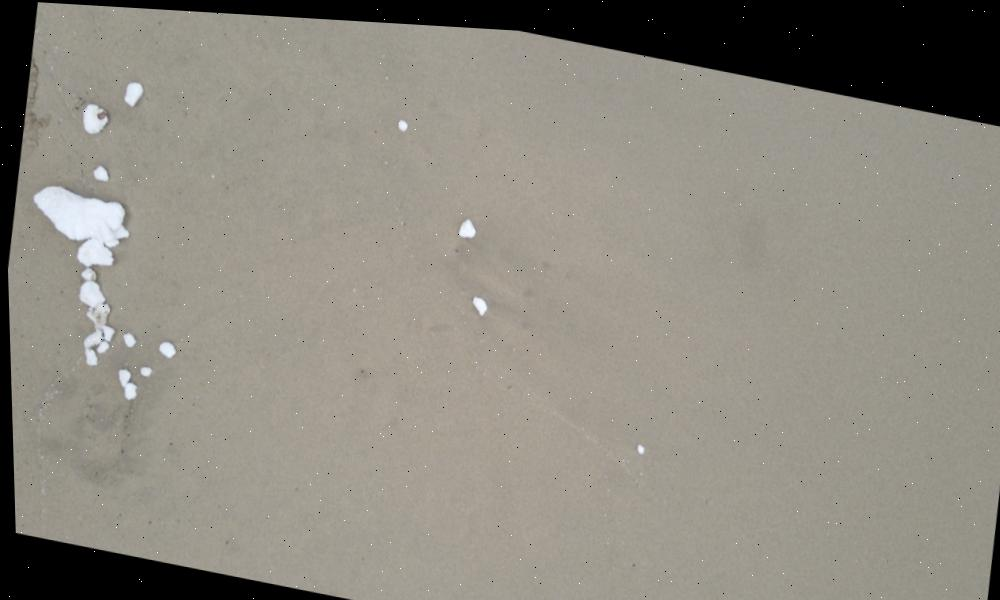styrofoam: (22, 176, 134, 255), (67, 236, 116, 311), (76, 302, 114, 372), (80, 99, 112, 139), (120, 78, 145, 108), (112, 370, 136, 401), (453, 214, 476, 237), (152, 338, 173, 358), (467, 290, 486, 311)
